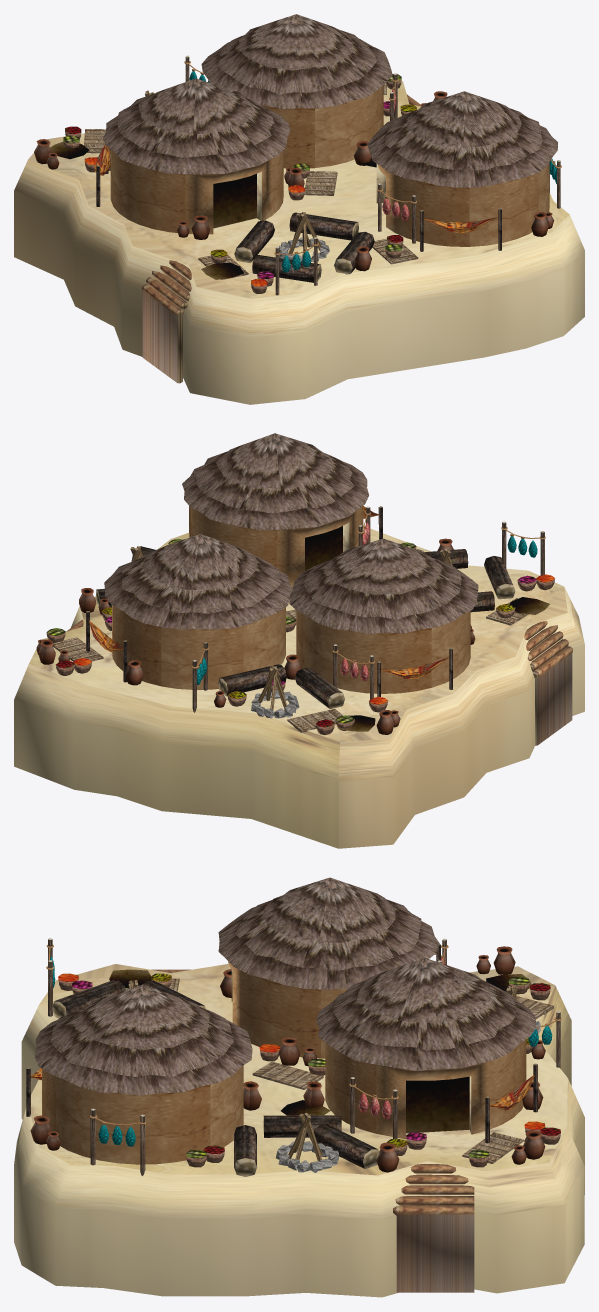
Rendered from colony_allied.dae.
3 renders of one model, top to bottom at view 1: azimuth 30°, elevation 25°; view 2: azimuth 150°, elevation 25°; view 3: azimuth 270°, elevation 25°, orthographic. The views are drawn at different scales.
Visible parts, largest first — view 1: colony_allied; view 2: colony_allied; view 3: colony_allied.
Boxes of the visible parts, <box> form: colony_allied: <box>14,14,584,404</box>; colony_allied: <box>14,433,584,848</box>; colony_allied: <box>14,877,584,1297</box>.
Bounding box in the file's own units: 27.26 × 28.85 × 14.18.
